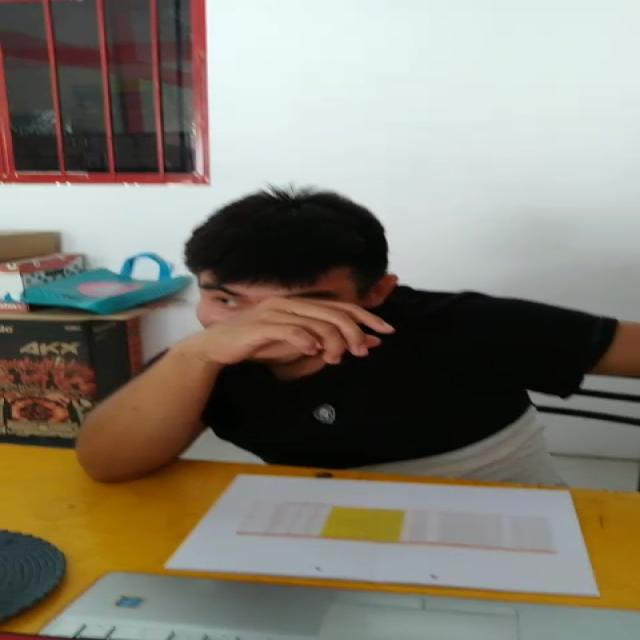7_mano_rostro: (161, 298, 400, 375)
